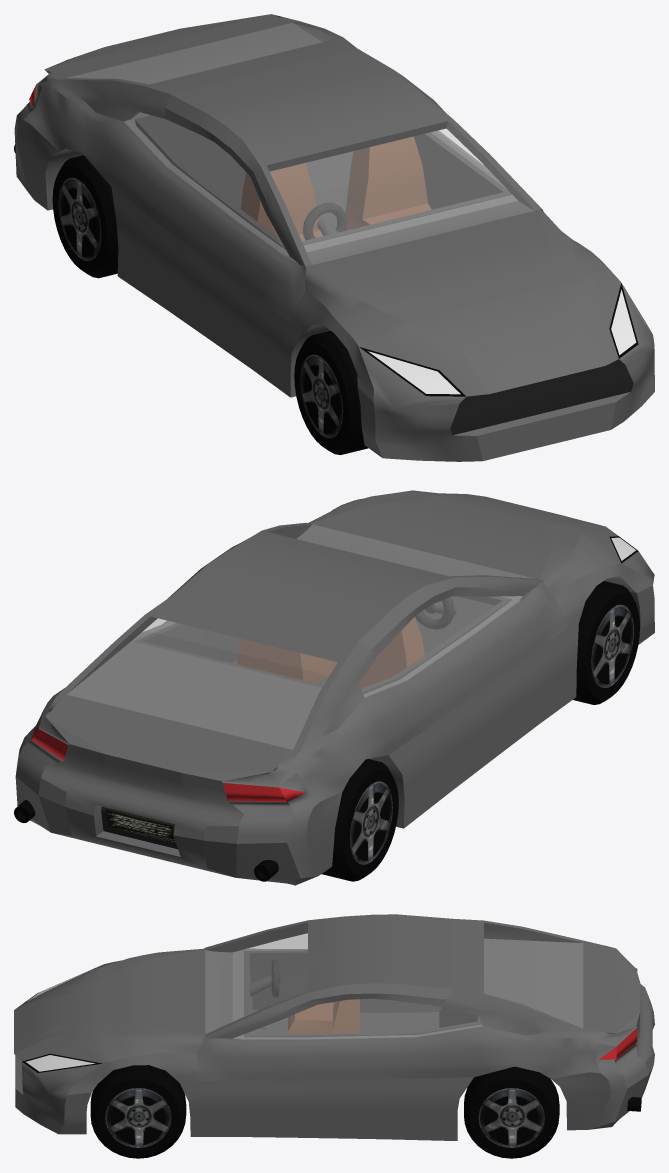
Rendered from ASTON.fbx.
3 views of the same model, one above another, from view 1: azimuth 30°, elevation 25°; view 2: azimuth 150°, elevation 25°; view 3: azimuth 270°, elevation 25° (orthographic). The views are drawn at different scales.
Visible parts, largest first — view 1: aston.001, front_right.017, back_right.017, steeringwheel.002; view 2: aston.001, front_right.017, back_right.017, number_plate.002, steeringwheel.002; view 3: aston.001, front_left.017, back_left.017.
Boxes of the visible parts, bbox=[...] form: aston.001: bbox=[14, 14, 654, 461]; front_right.017: bbox=[294, 330, 368, 454]; back_right.017: bbox=[52, 155, 118, 278]; steeringwheel.002: bbox=[303, 202, 347, 240]; aston.001: bbox=[14, 490, 654, 885]; front_right.017: bbox=[573, 581, 639, 704]; back_right.017: bbox=[321, 759, 398, 881]; number_plate.002: bbox=[105, 808, 175, 842]; steeringwheel.002: bbox=[415, 597, 454, 629]; aston.001: bbox=[14, 914, 654, 1140]; front_left.017: bbox=[90, 1065, 186, 1158]; back_left.017: bbox=[464, 1066, 559, 1158].
Size of the model in its own units: 323 by 131 by 87.15.
